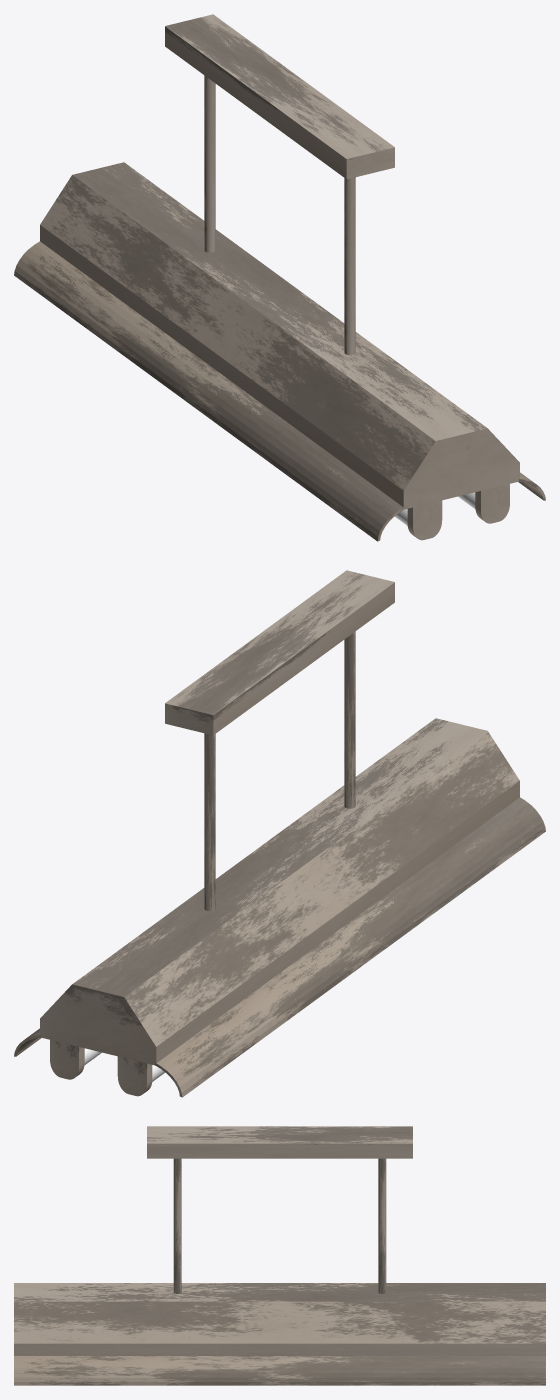
File: light_dirty_wt.fbx
3 views of the same model, one above another, from view 1: azimuth 30°, elevation 25°; view 2: azimuth 150°, elevation 25°; view 3: azimuth 270°, elevation 25° (orthographic). The views are drawn at different scales.
Parts seen in each view (by area): view 1: Light body, shade, Cube, support pole.001, support pole, Light socket.001, Light socket; view 2: Light body, shade, Cube, support pole, support pole.001, Light socket.002, Light socket.003; view 3: Light body, shade.001, Cube, support pole, support pole.001.
Part boxes in pixels (bbox=[...]): Light body: bbox=[40, 162, 519, 509]; shade: bbox=[14, 241, 404, 541]; Cube: bbox=[165, 14, 394, 179]; support pole.001: bbox=[344, 177, 355, 355]; support pole: bbox=[204, 75, 215, 252]; Light socket.001: bbox=[407, 500, 442, 540]; Light socket: bbox=[475, 484, 509, 523]; Light body: bbox=[40, 718, 519, 1065]; shade: bbox=[155, 797, 545, 1097]; Cube: bbox=[165, 570, 394, 735]; support pole: bbox=[204, 733, 215, 911]; support pole.001: bbox=[344, 631, 355, 808]; Light socket.002: bbox=[117, 1056, 152, 1096]; Light socket.003: bbox=[50, 1040, 84, 1079]; Light body: bbox=[14, 1283, 545, 1355]; shade.001: bbox=[14, 1356, 545, 1385]; Cube: bbox=[147, 1126, 412, 1158]; support pole: bbox=[378, 1158, 386, 1293]; support pole.001: bbox=[173, 1158, 181, 1293].
Size of the model in its own units: 34.74 by 61.38 by 130.
Materials: 3 (3 with a texture image).
